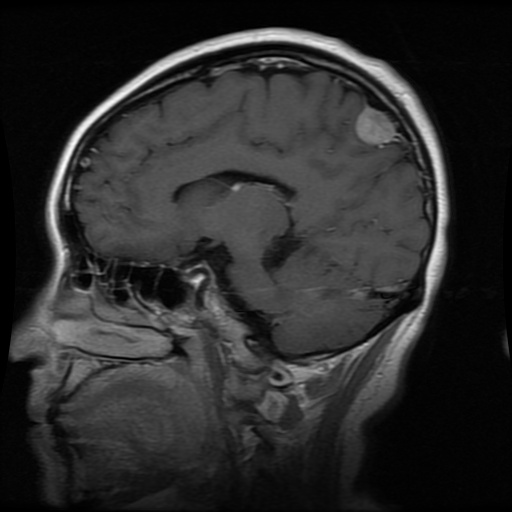meningioma: (356, 107, 396, 145)
